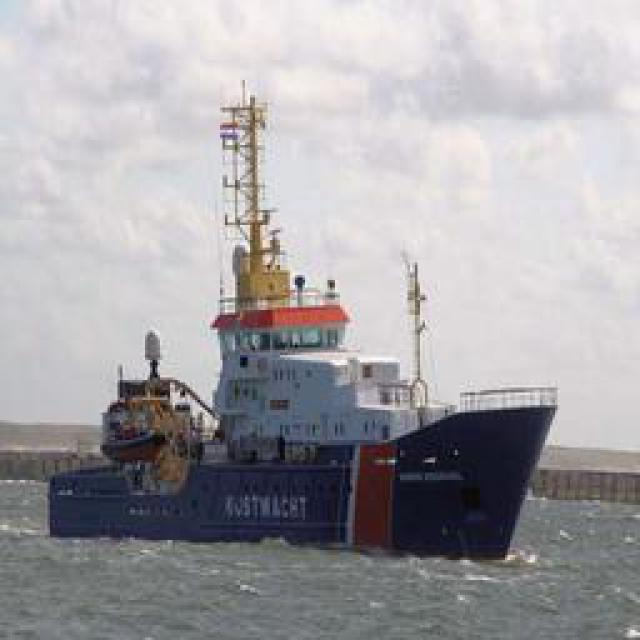Ship: (82, 164, 562, 549)
